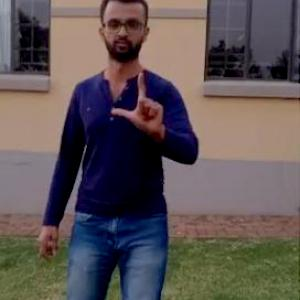land_hand: (105, 64, 175, 146)
